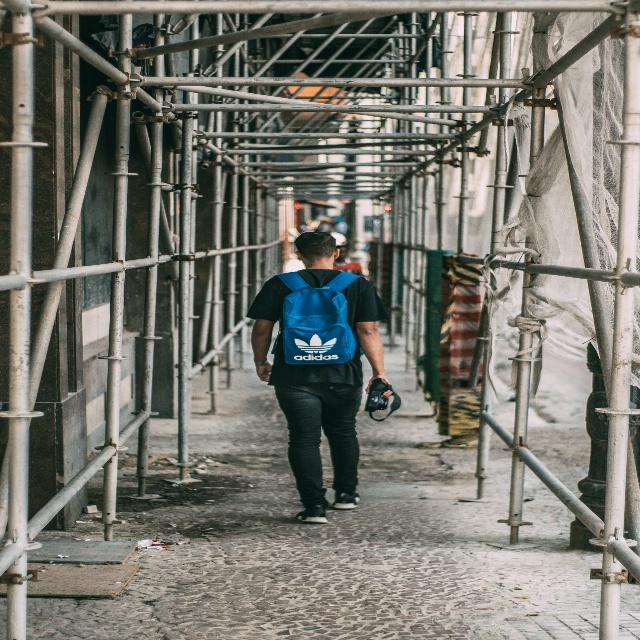Sin_guantes: (365, 373, 393, 400), (256, 362, 272, 383)
